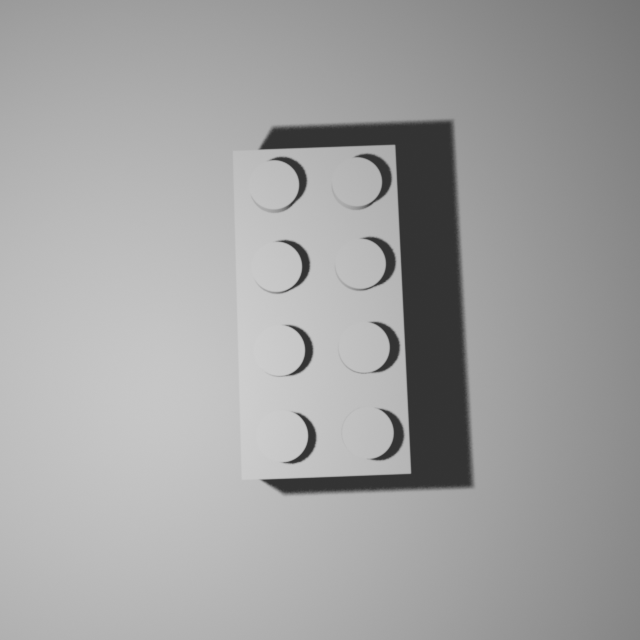lego_2x4: (231, 140, 413, 481)
